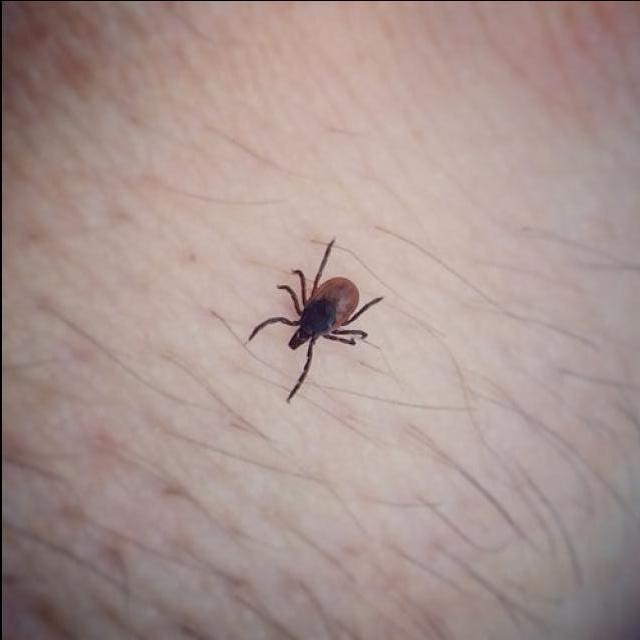Ixodes Ricinus-F: (246, 237, 381, 402)
